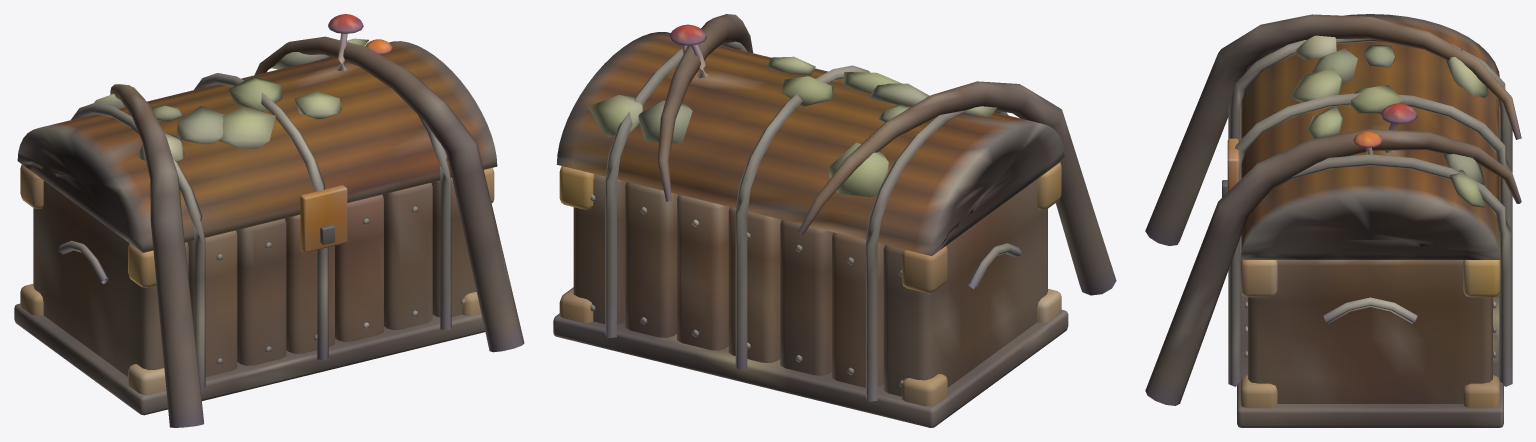
The model's file is kok_sandik.glb.
The picture shows the model from 3 angles, left to right: view 1: azimuth 30°, elevation 25°; view 2: azimuth 150°, elevation 25°; view 3: azimuth 270°, elevation 25°; orthographic projection. The views are drawn at different scales.
Parts seen in each view (by area): view 1: kok_sandik_LOD0; view 2: kok_sandik_LOD0; view 3: kok_sandik_LOD0.
Boxes of the visible parts, left/top/right/bottom form: kok_sandik_LOD0: left=14, top=14, right=524, bottom=427; kok_sandik_LOD0: left=553, top=14, right=1116, bottom=427; kok_sandik_LOD0: left=1145, top=14, right=1521, bottom=427.
Size of what is drawn, in the model's own units: 1.18 by 0.848 by 1.01.
